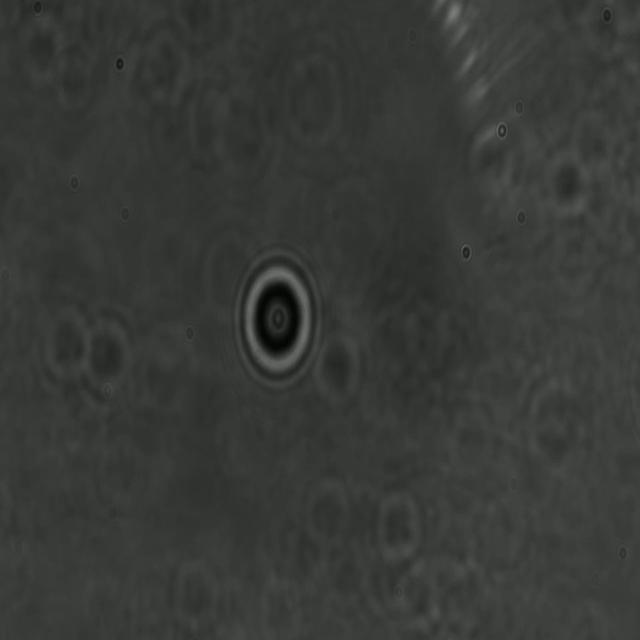LCELL: (234, 247, 319, 391)
